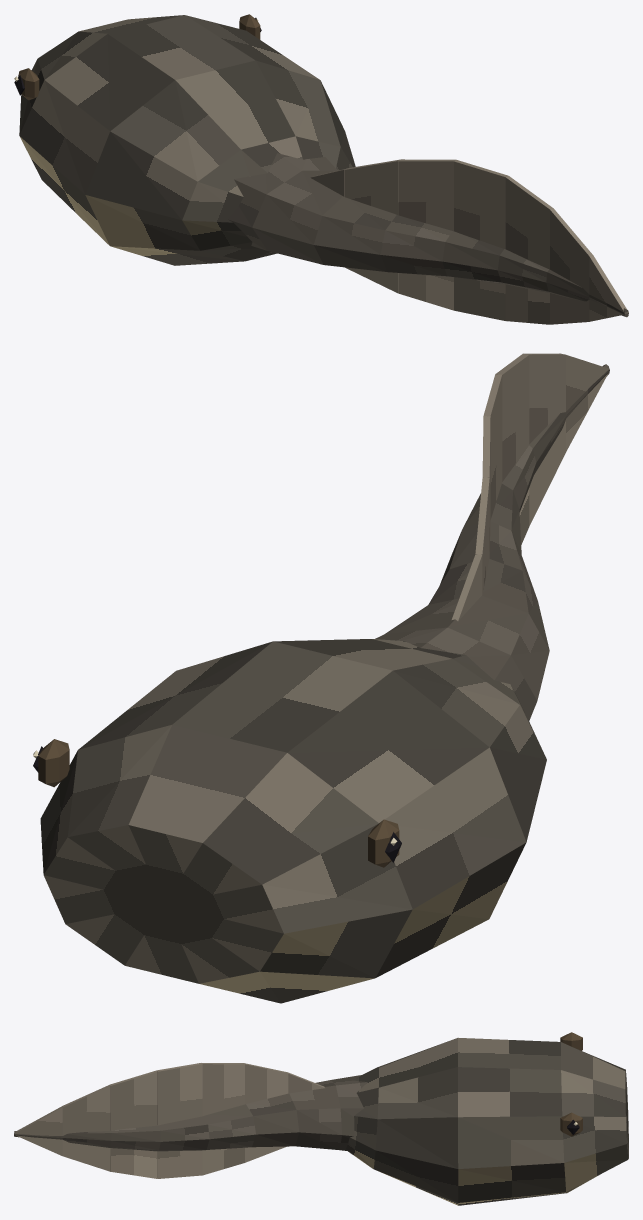
The model's file is mon_leo_tadpole.glb.
3 views of the same model, one above another, from view 1: azimuth 30°, elevation 25°; view 2: azimuth 150°, elevation 25°; view 3: azimuth 270°, elevation 25° (orthographic). The views are drawn at different scales.
Visible parts, largest first — view 1: closed_body; view 2: closed_body; view 3: closed_body.
Boxes of the visible parts, <box> form: closed_body: <box>14,14,628,324</box>; closed_body: <box>33,353,609,1003</box>; closed_body: <box>14,1032,628,1205</box>.
Size of the model in its own units: 0.0293 by 0.0221 by 0.0805.
1 material, 1 textured.
